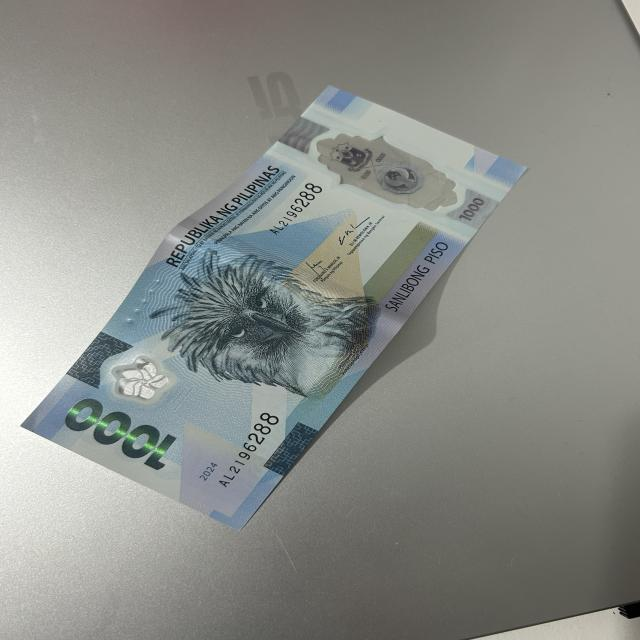clear_window: (314, 133, 466, 210)
eagle: (165, 256, 356, 389)
sampaguita: (106, 357, 166, 402)
